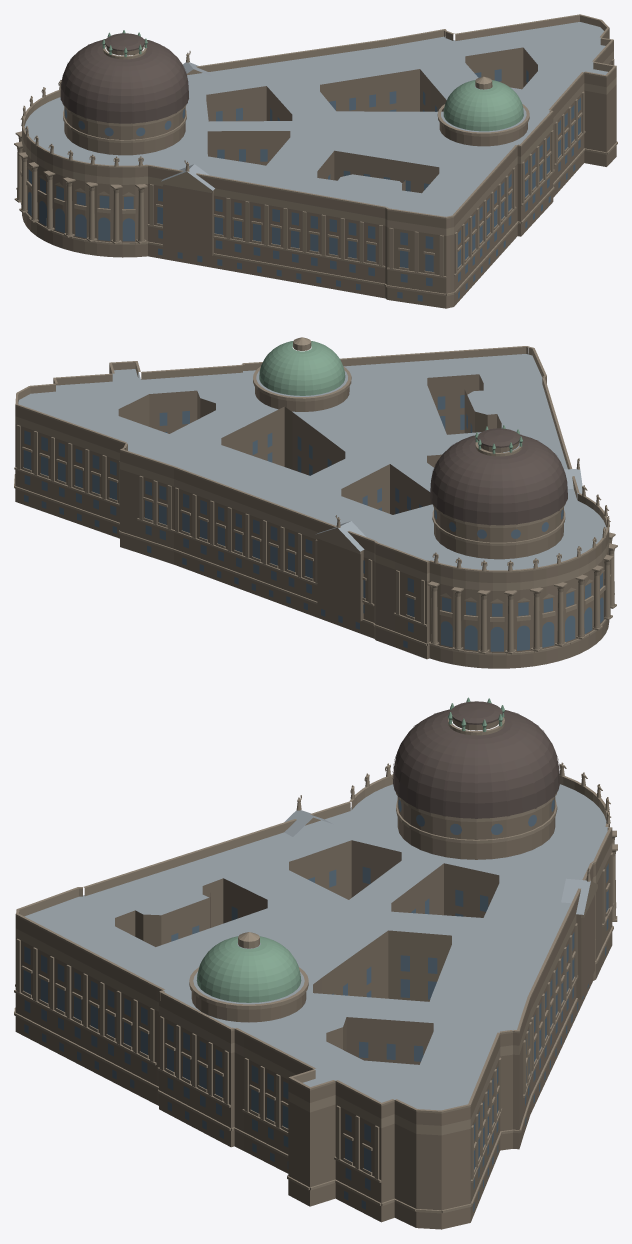
The model's file is berlin-bode-museum.detail.glb.
The picture shows the model from 3 angles, top to bottom: view 1: azimuth 30°, elevation 25°; view 2: azimuth 150°, elevation 25°; view 3: azimuth 270°, elevation 25°; orthographic projection. The views are drawn at different scales.
Visible parts, largest first — view 1: Bode-Museum; view 2: Bode-Museum; view 3: Bode-Museum.
Part boxes in pixels (x1=…): Bode-Museum: x1=14, y1=14, x2=617, y2=308; Bode-Museum: x1=14, y1=337, x2=617, y2=668; Bode-Museum: x1=14, y1=697, x2=617, y2=1229.
Size of the model in its own units: 144 by 43.2 by 104.
